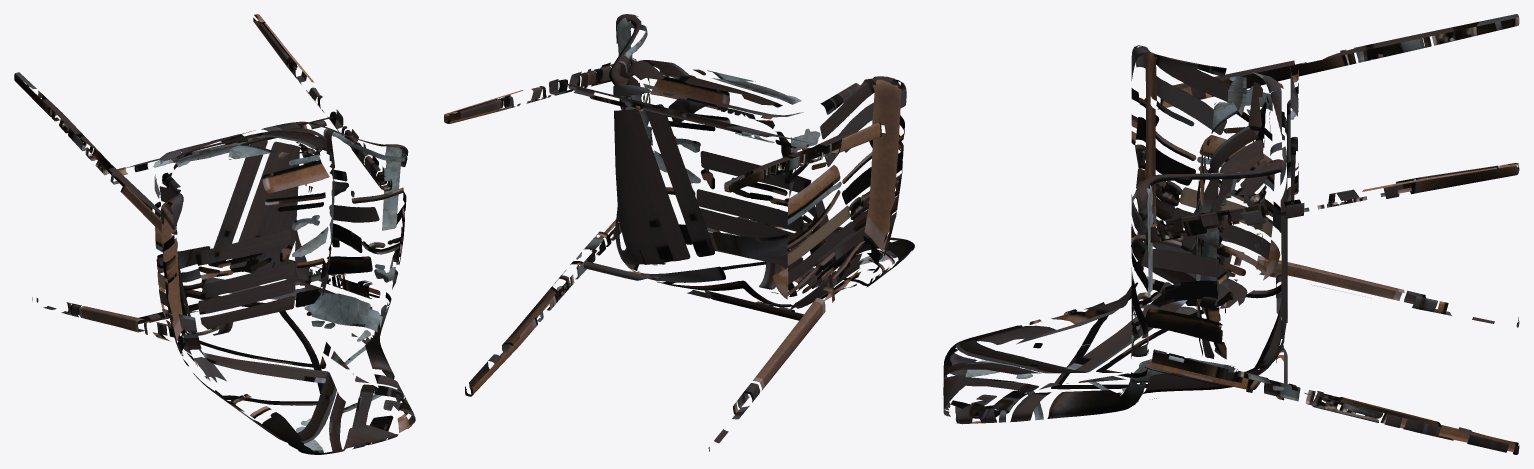
3 views of the same model, side by side, from view 1: azimuth 30°, elevation 25°; view 2: azimuth 150°, elevation 25°; view 3: azimuth 270°, elevation 25° (orthographic). The views are drawn at different scales.
Bounding box in the file's own units: 0.6 × 0.563 × 0.9546.
